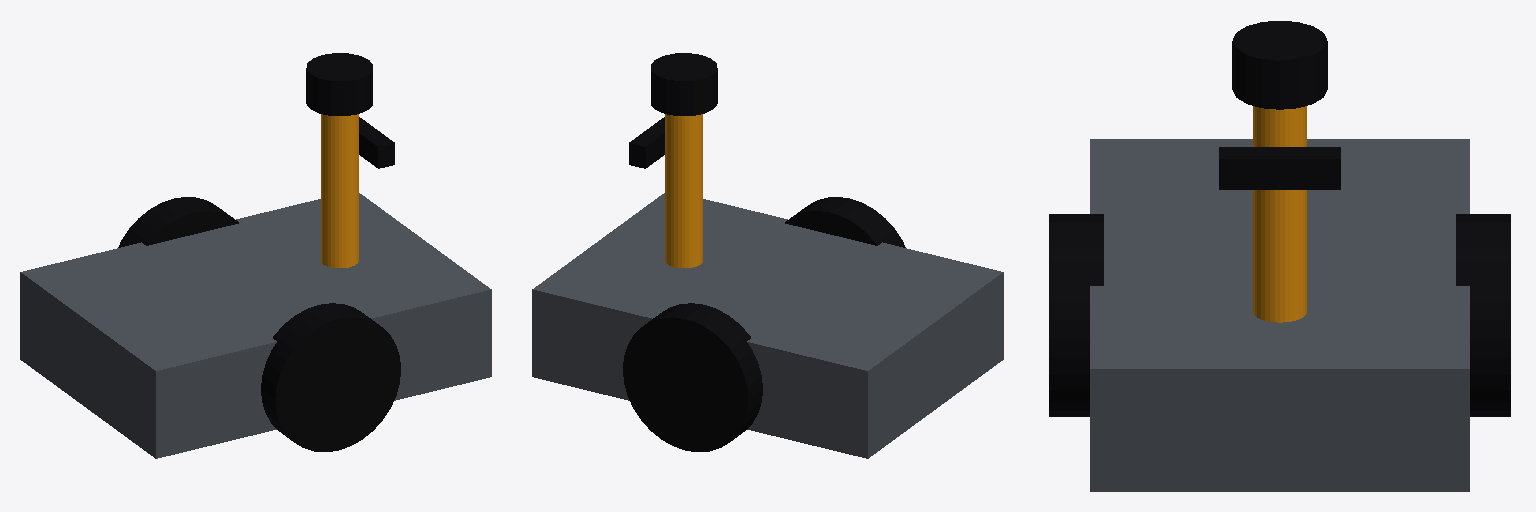
URDF robot description (rover):
<?xml version="1.0" ?>
<!-- =================================================================================== -->
<!-- |    This document was autogenerated by xacro from sim-workspace/src/rover_description/urdf/rover.urdf.xacro | -->
<!-- |    EDITING THIS FILE BY HAND IS NOT RECOMMENDED                                 | -->
<!-- =================================================================================== -->
<!-- The migration source robot: a diff-drive rover with lidar and depth camera.
     This project. Deliberately imperfect in FOUR ways, each of which
     becomes a notes (see docs/CURRICULUM.md 1.4). The flaws are tagged
     FLAW-1..FLAW-4 so check_flaws.py can prove they are all still present:
     a "fixed" source robot would silently destroy other parts of this repo. -->
<robot name="rover">
  <material name="grey">
    <color rgba="0.35 0.37 0.40 1"/>
  </material>
  <material name="black">
    <color rgba="0.08 0.08 0.09 1"/>
  </material>
  <material name="amber">
    <color rgba="0.90 0.60 0.10 1"/>
  </material>
  <link name="base_footprint"/>
  <joint name="base_joint" type="fixed">
    <parent link="base_footprint"/>
    <child link="base_link"/>
    <origin xyz="0 0 0.075"/>
  </joint>
  <link name="base_link">
    <visual>
      <geometry>
        <box size="0.4 0.28 0.1"/>
      </geometry>
      <material name="grey"/>
    </visual>
    <collision>
      <geometry>
        <box size="0.4 0.28 0.1"/>
      </geometry>
    </collision>
    <inertial>
      <mass value="6.0"/>
      <!-- FLAW-1: plausible-but-wrong inertia. These are the numbers a box of
           this size and mass would have IF it were a uniform solid, which this
           robot is not (battery low and rear, mast high and forward). Gazebo's
           solver is forgiving enough that the robot drives fine anyway; PhysX
           is not. a later check measures the difference and derives the real
           tensor on screen. Do NOT "fix" this here. -->
      <inertia ixx="0.0446" ixy="0" ixz="0" iyy="0.0850" iyz="0" izz="0.1192"/>
    </inertial>
  </link>
  <link name="left_wheel">
    <visual>
      <origin rpy="1.5707963 0 0"/>
      <geometry>
        <cylinder length="0.04" radius="0.075"/>
      </geometry>
      <material name="black"/>
    </visual>
    <collision>
      <origin rpy="1.5707963 0 0"/>
      <geometry>
        <cylinder length="0.04" radius="0.075"/>
      </geometry>
      <surface>
        <friction>
          <ode>
            <mu>1.0</mu>
            <mu2>1.0</mu2>
          </ode>
        </friction>
      </surface>
    </collision>
    <inertial>
      <mass value="0.5"/>
      <origin rpy="1.5707963 0 0"/>
      <inertia ixx="0.000769" ixy="0" ixz="0" iyy="0.000769" iyz="0" izz="0.001406"/>
    </inertial>
  </link>
  <joint name="left_wheel_joint" type="continuous">
    <parent link="base_link"/>
    <child link="left_wheel"/>
    <!-- z=0 puts the axle at base_link origin, which sits at wheel_r above
           the ground via base_joint. So the wheel bottom touches z=0 exactly. -->
    <origin xyz="0 0.15 0"/>
    <axis xyz="0 1 0"/>
    <!-- FLAW-2: a velocity limit Gazebo silently ignores for a continuous
           joint driven by gz_ros2_control, but which PhysX enforces on the
           articulation. 8 rad/s = 0.6 m/s at this radius, BELOW the 0.8 m/s
           the Nav2 config asks for. In Gazebo the robot hits 0.8; in Isaac it
           saturates and Nav2's tuning goes stale. a later check. -->
    <limit effort="12.0" velocity="8.0"/>
    <dynamics damping="0.01" friction="0.0"/>
  </joint>
  <link name="right_wheel">
    <visual>
      <origin rpy="1.5707963 0 0"/>
      <geometry>
        <cylinder length="0.04" radius="0.075"/>
      </geometry>
      <material name="black"/>
    </visual>
    <collision>
      <origin rpy="1.5707963 0 0"/>
      <geometry>
        <cylinder length="0.04" radius="0.075"/>
      </geometry>
      <surface>
        <friction>
          <ode>
            <mu>1.0</mu>
            <mu2>1.0</mu2>
          </ode>
        </friction>
      </surface>
    </collision>
    <inertial>
      <mass value="0.5"/>
      <origin rpy="1.5707963 0 0"/>
      <inertia ixx="0.000769" ixy="0" ixz="0" iyy="0.000769" iyz="0" izz="0.001406"/>
    </inertial>
  </link>
  <joint name="right_wheel_joint" type="continuous">
    <parent link="base_link"/>
    <child link="right_wheel"/>
    <!-- z=0 puts the axle at base_link origin, which sits at wheel_r above
           the ground via base_joint. So the wheel bottom touches z=0 exactly. -->
    <origin xyz="0 -0.15 0"/>
    <axis xyz="0 1 0"/>
    <!-- FLAW-2: a velocity limit Gazebo silently ignores for a continuous
           joint driven by gz_ros2_control, but which PhysX enforces on the
           articulation. 8 rad/s = 0.6 m/s at this radius, BELOW the 0.8 m/s
           the Nav2 config asks for. In Gazebo the robot hits 0.8; in Isaac it
           saturates and Nav2's tuning goes stale. a later check. -->
    <limit effort="12.0" velocity="8.0"/>
    <dynamics damping="0.01" friction="0.0"/>
  </joint>
  <!-- Rear caster. A sphere, so it cannot fight the diff-drive kinematics the
       way a badly-modelled swivel wheel does. C3 S4 already taught why. -->
  <link name="caster">
    <visual>
      <geometry>
        <sphere radius="0.030"/>
      </geometry>
      <material name="black"/>
    </visual>
    <collision>
      <geometry>
        <sphere radius="0.030"/>
      </geometry>
      <surface>
        <friction>
          <ode>
            <mu>0.05</mu>
            <mu2>0.05</mu2>
          </ode>
        </friction>
      </surface>
    </collision>
    <inertial>
      <mass value="0.15"/>
      <inertia ixx="5.4e-5" ixy="0" ixz="0" iyy="5.4e-5" iyz="0" izz="5.4e-5"/>
    </inertial>
  </link>
  <joint name="caster_joint" type="fixed">
    <parent link="base_link"/>
    <child link="caster"/>
    <origin xyz="-0.15 0 -0.045"/>
  </joint>
  <!-- Sensor mast -->
  <link name="mast">
    <visual>
      <geometry>
        <cylinder length="0.18" radius="0.02"/>
      </geometry>
      <material name="amber"/>
    </visual>
    <collision>
      <geometry>
        <cylinder length="0.18" radius="0.02"/>
      </geometry>
    </collision>
    <inertial>
      <mass value="0.30"/>
      <inertia ixx="8.5e-4" ixy="0" ixz="0" iyy="8.5e-4" iyz="0" izz="6.0e-5"/>
    </inertial>
  </link>
  <joint name="mast_joint" type="fixed">
    <parent link="base_link"/>
    <child link="mast"/>
    <origin xyz="0.10 0 0.14"/>
  </joint>
  <link name="lidar_link">
    <!-- FLAW-5: the mesh path uses package://, which is a ROS convention.
         Gazebo resolves it because it was launched from a sourced workspace
         and inherits GZ_SIM_RESOURCE_PATH / the ament index. Isaac Sim, started
         as its own application, has neither. The importer must be TOLD where
         the package is (ros_package_paths) or the reference resolves to
         nothing, and an unresolved mesh is not an error: it is a link that
         silently has no visual. a later check.

         The mesh is a 16-sided prism, not a cylinder, deliberately: the
         collision below is still the analytic cylinder it replaced, so visual
         and collision now DISAGREE by construction. That divergence is the
         second half of 3.4, and the facet count is the setup for 3.7. -->
    <visual>
      <geometry>
        <mesh filename="package://rover_description/meshes/lidar_housing.stl"/>
      </geometry>
      <material name="black"/>
    </visual>
    <collision>
      <geometry>
        <cylinder length="0.04" radius="0.035"/>
      </geometry>
    </collision>
    <inertial>
      <mass value="0.10"/>
      <inertia ixx="4.4e-5" ixy="0" ixz="0" iyy="4.4e-5" iyz="0" izz="6.1e-5"/>
    </inertial>
  </link>
  <joint name="lidar_joint" type="fixed">
    <parent link="mast"/>
    <child link="lidar_link"/>
    <origin xyz="0 0 0.11"/>
  </joint>
  <link name="camera_link">
    <visual>
      <geometry>
        <box size="0.02 0.09 0.025"/>
      </geometry>
      <material name="black"/>
    </visual>
    <inertial>
      <mass value="0.08"/>
      <inertia ixx="5.9e-5" ixy="0" ixz="0" iyy="6.0e-6" iyz="0" izz="5.9e-5"/>
    </inertial>
  </link>
  <joint name="camera_joint" type="fixed">
    <parent link="mast"/>
    <child link="camera_link"/>
    <origin xyz="0.03 0 0.04"/>
  </joint>
  <!-- The optical frame. REP-103: optical frames are z-forward, x-right,
       y-down, rotated from the ROS body convention. Isaac's camera prim uses
       a different convention again, and a later check measures what that does
       to a point cloud. -->
  <link name="camera_optical_frame"/>
  <joint name="camera_optical_joint" type="fixed">
    <parent link="camera_link"/>
    <child link="camera_optical_frame"/>
    <origin rpy="-1.5707963267948966 0 -1.5707963267948966"/>
  </joint>
  <!-- ================= ros2_control ================= -->
  <ros2_control name="GzSystem" type="system">
    <hardware>
      <plugin>gz_ros2_control/GazeboSimSystem</plugin>
    </hardware>
    <joint name="left_wheel_joint">
      <command_interface name="velocity">
        <param name="min">-8.0</param>
        <param name="max"> 8.0</param>
      </command_interface>
      <state_interface name="position"/>
      <state_interface name="velocity"/>
    </joint>
    <joint name="right_wheel_joint">
      <command_interface name="velocity">
        <param name="min">-8.0</param>
        <param name="max"> 8.0</param>
      </command_interface>
      <state_interface name="position"/>
      <state_interface name="velocity"/>
    </joint>
  </ros2_control>
  <gazebo>
    <plugin filename="gz_ros2_control-system" name="gz_ros2_control::GazeboSimROS2ControlPlugin">
      <parameters>sim-workspace/install/rover_description/share/rover_description/config/controllers.yaml</parameters>
    </plugin>
    <!-- FLAW-3: a Gazebo-only plugin with no Isaac equivalent. The stack
         subscribes to /rover/battery and a node downstream gates motion on it.
         Nothing in Isaac publishes this, so after migration the robot appears
         to work and then stops. a later check replaces it with OmniGraph. -->
    <plugin filename="gz-sim-linearbatteryplugin-system" name="gz::sim::systems::LinearBatteryPlugin">
      <battery_name>rover_battery</battery_name>
      <voltage>12.6</voltage>
      <open_circuit_voltage_constant_coef>12.6</open_circuit_voltage_constant_coef>
      <capacity>7.0</capacity>
      <power_load>6.0</power_load>
    </plugin>
  </gazebo>
  <gazebo reference="lidar_link">
    <sensor name="lidar" type="gpu_lidar">
      <topic>scan</topic>
      <update_rate>10</update_rate>
      <lidar>
        <scan>
          <horizontal>
            <samples>640</samples>
            <min_angle>-2.356</min_angle>
            <max_angle>2.356</max_angle>
          </horizontal>
        </scan>
        <range>
          <min>0.12</min>
          <max>12.0</max>
          <resolution>0.01</resolution>
        </range>
        <noise>
          <type>gaussian</type>
          <mean>0.0</mean>
          <stddev>0.01</stddev>
        </noise>
      </lidar>
      <always_on>1</always_on>
      <visualize>true</visualize>
    </sensor>
  </gazebo>
  <gazebo reference="camera_link">
    <!-- FLAW-4: the depth camera publishes at 30 Hz while the physics step is
         1 ms (1000 Hz) and the lidar is 10 Hz. In Gazebo the perception stack
         tolerates it. This is the same class of rate/timestep misalignment that
         produced the measured 0.33x bug in an earlier measurement, and a later check
         reproduces it from the Gazebo side. -->
    <sensor name="depth_camera" type="depth_camera">
      <topic>depth</topic>
      <update_rate>30</update_rate>
      <camera>
        <horizontal_fov>1.0472</horizontal_fov>
        <image>
          <width>640</width>
          <height>480</height>
          <format>R_FLOAT32</format>
        </image>
        <clip>
          <near>0.10</near>
          <far>10.0</far>
        </clip>
      </camera>
      <always_on>1</always_on>
    </sensor>
  </gazebo>
  <gazebo reference="left_wheel">
    <mu1>1.0</mu1>
    <mu2>1.0</mu2>
  </gazebo>
  <gazebo reference="right_wheel">
    <mu1>1.0</mu1>
    <mu2>1.0</mu2>
  </gazebo>
  <gazebo reference="caster">
    <mu1>0.05</mu1>
    <mu2>0.05</mu2>
  </gazebo>
</robot>

--- What the picture shows (computed from the rendered views, not written in the file) ---
The picture shows the robot from 3 angles, left to right: view 1: azimuth 30°, elevation 25°; view 2: azimuth 150°, elevation 25°; view 3: azimuth 270°, elevation 25°; orthographic projection.
Robot: rover — 9 links, 8 joints (2 continuous, 6 fixed); root link base_footprint; default pose: every joint at zero.
Visible links, largest first — view 1: base_link, right_wheel, mast, lidar_link, left_wheel, camera_link; view 2: base_link, left_wheel, mast, lidar_link, right_wheel, camera_link; view 3: base_link, left_wheel, right_wheel, mast, lidar_link, camera_link.
Link boxes in pixels (box(x1,y1,x2,y2)): base_link: box(20, 193, 491, 458); right_wheel: box(261, 303, 400, 451); mast: box(321, 114, 358, 267); lidar_link: box(306, 53, 372, 115); left_wheel: box(118, 197, 238, 247); camera_link: box(359, 117, 394, 168); base_link: box(532, 193, 1003, 458); left_wheel: box(623, 303, 762, 451); mast: box(665, 114, 702, 267); lidar_link: box(651, 53, 717, 115); right_wheel: box(785, 197, 905, 247); camera_link: box(629, 117, 664, 168); base_link: box(1090, 139, 1469, 491); left_wheel: box(1456, 214, 1510, 416); right_wheel: box(1049, 214, 1103, 416); mast: box(1253, 106, 1306, 322); lidar_link: box(1232, 21, 1327, 109); camera_link: box(1219, 147, 1340, 189).
Size in the robot's own frame: 0.4 by 0.34 by 0.345 metres.
Meshes: 1 distinct files referenced, 1 mesh visuals loaded (1 binary STL).
